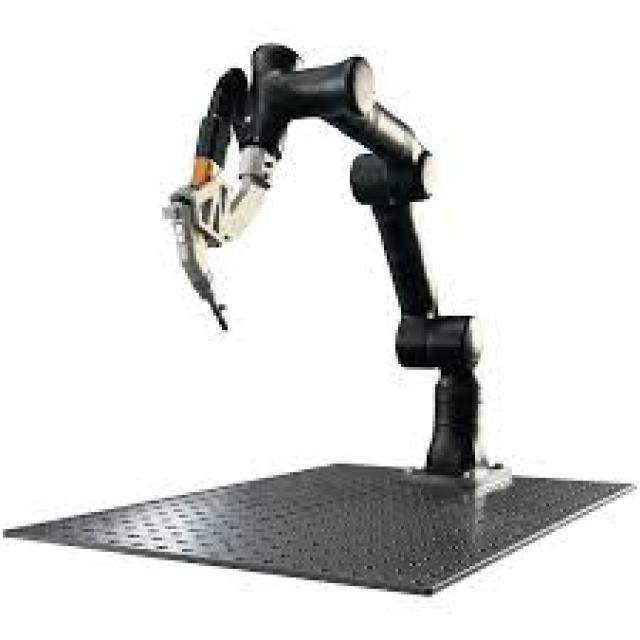Robotic-arm: (165, 26, 540, 483)
